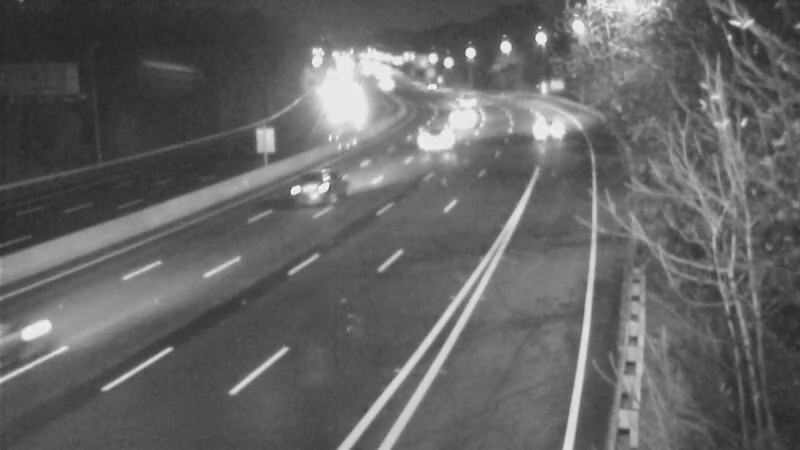vehicle: (1, 285, 86, 395), (286, 148, 366, 228), (439, 71, 489, 121), (520, 101, 570, 151), (439, 93, 489, 143), (404, 111, 454, 161)
